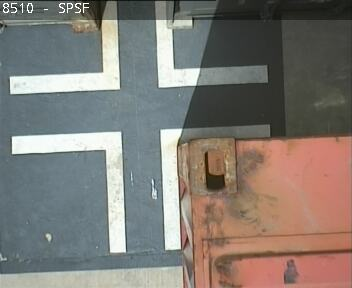groundmarker_1: (12, 123, 271, 250), (10, 1, 267, 98)
